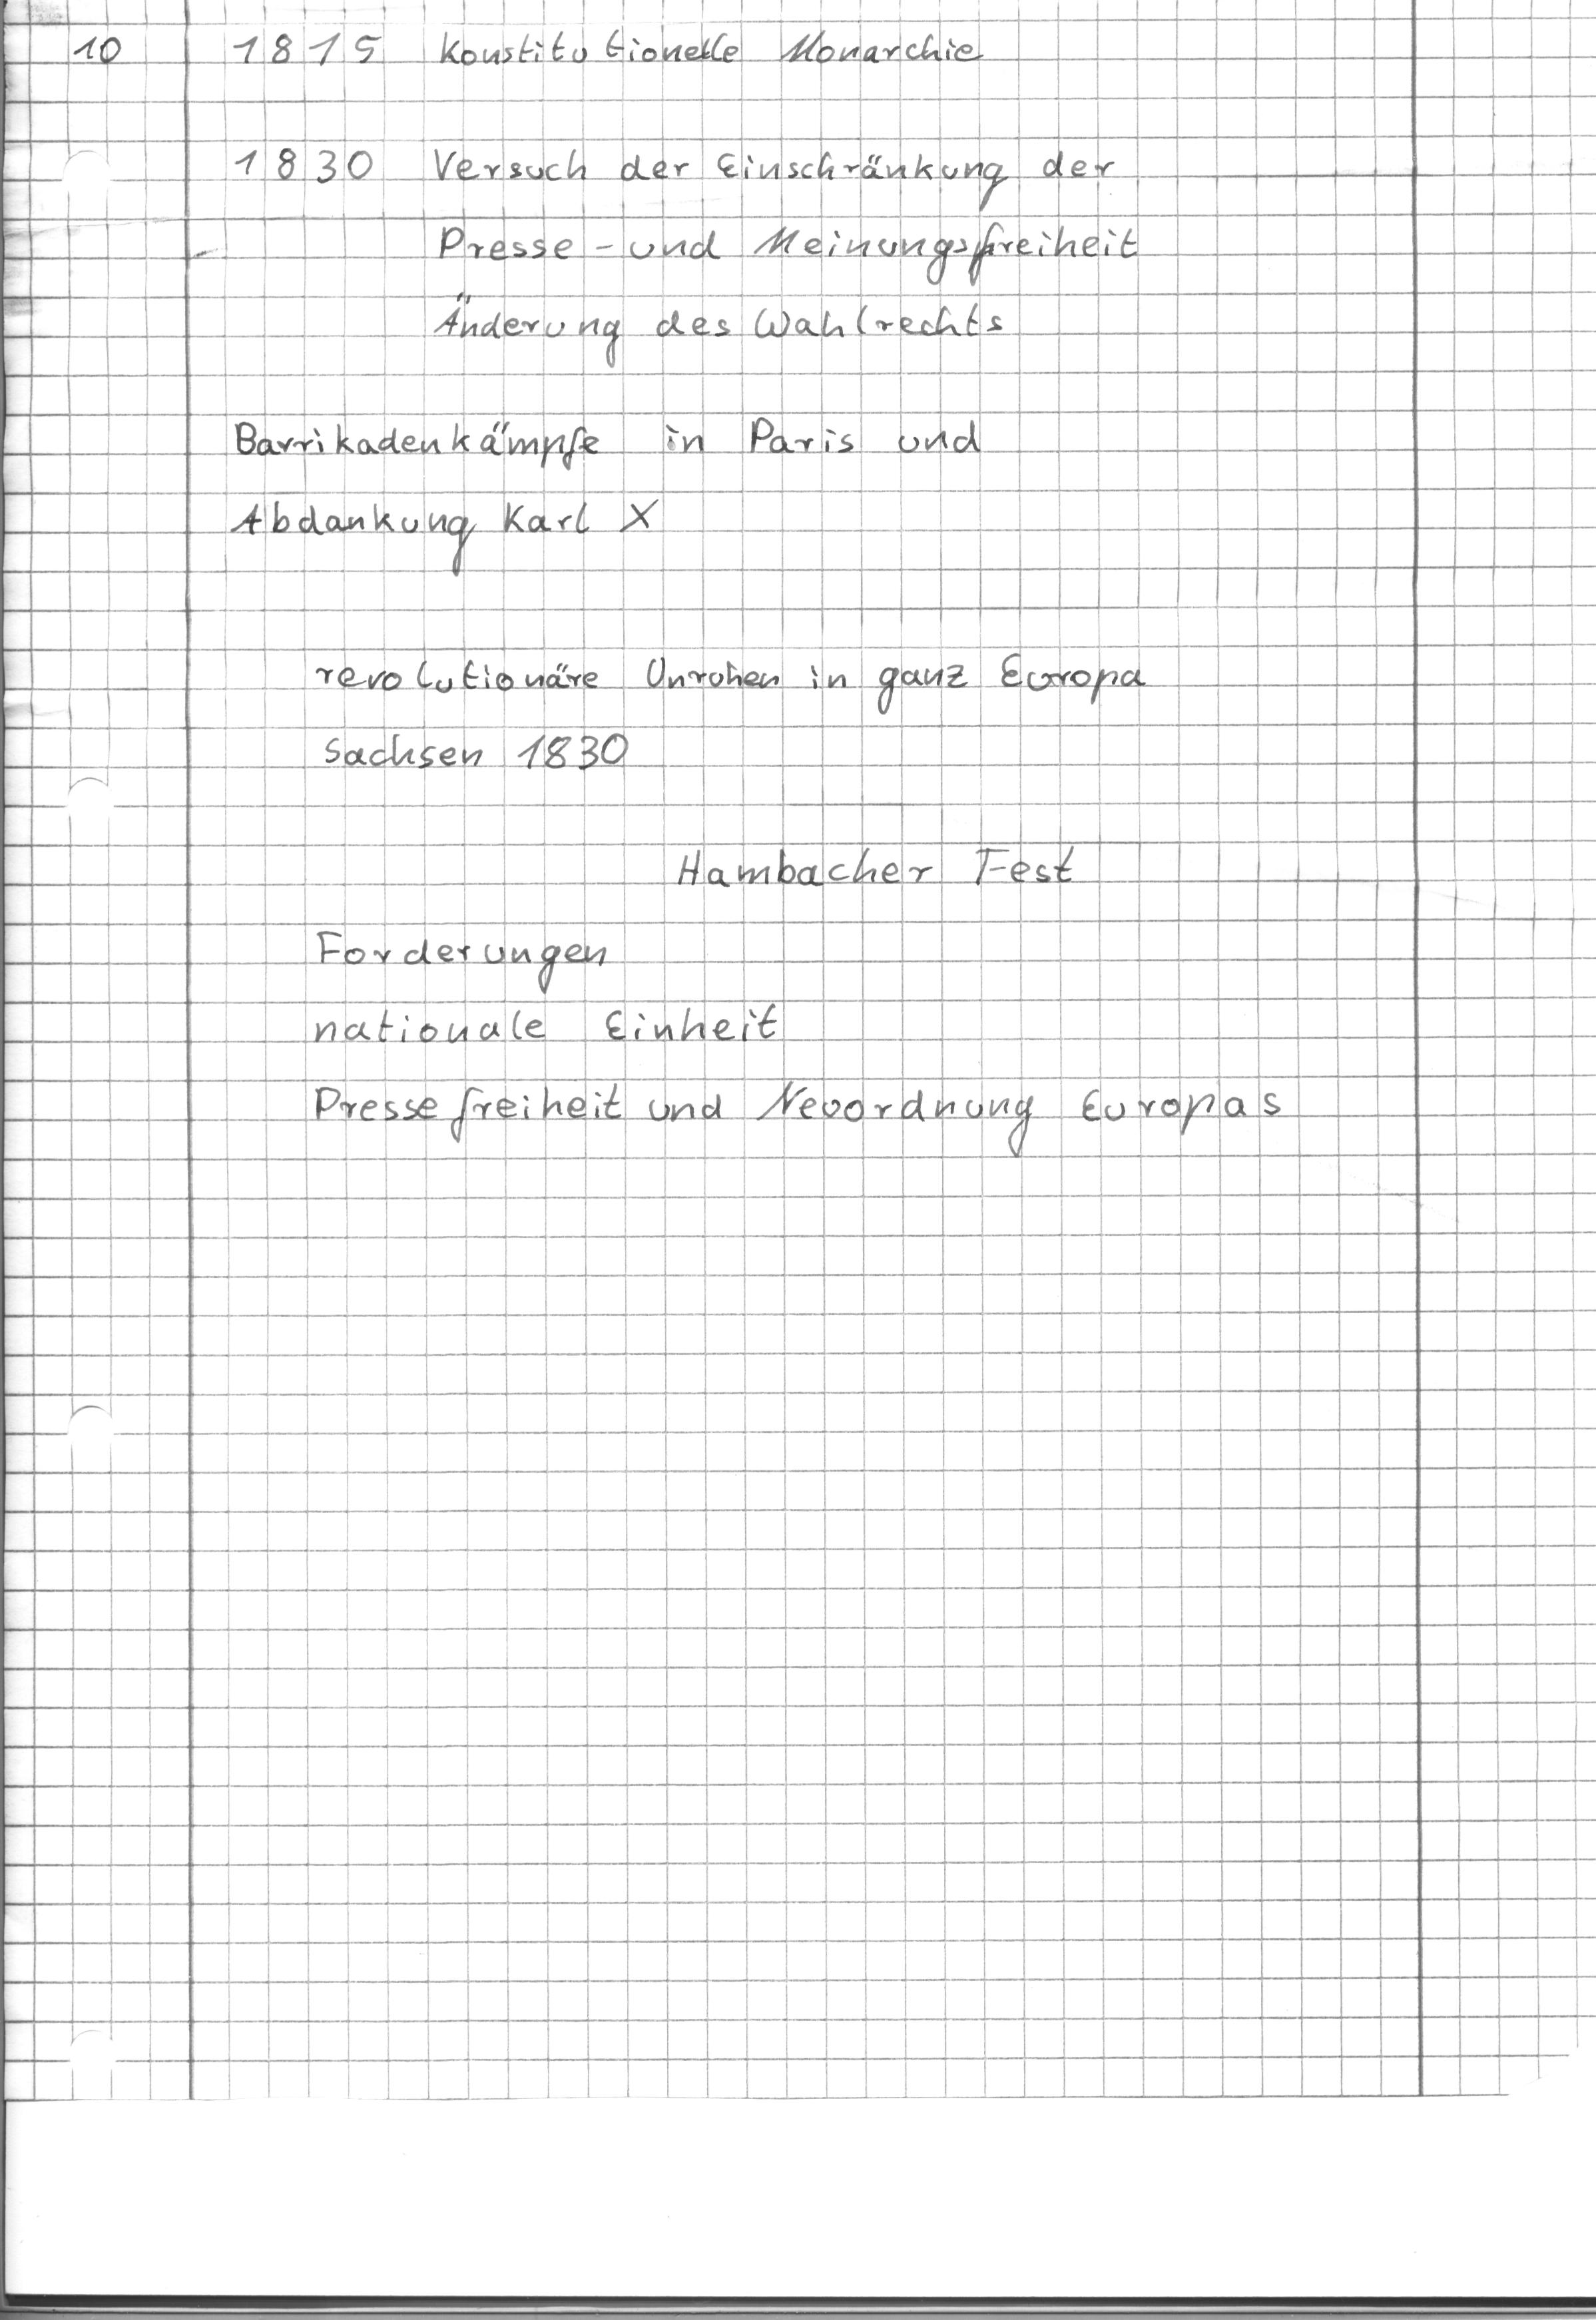word: (304, 916, 1293, 1177), (212, 127, 1159, 377), (218, 408, 993, 583), (301, 642, 1152, 788), (212, 14, 1002, 89), (665, 837, 1095, 910)
